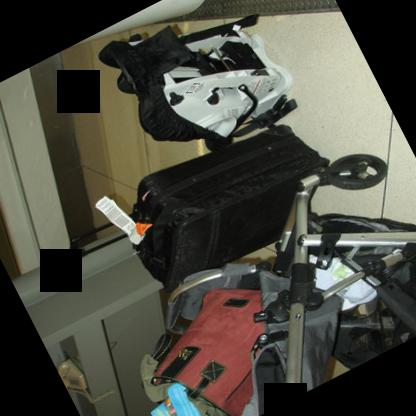backpack: (99, 11, 294, 151)
handbag: (148, 286, 265, 416)
suitcase: (126, 121, 329, 291)
